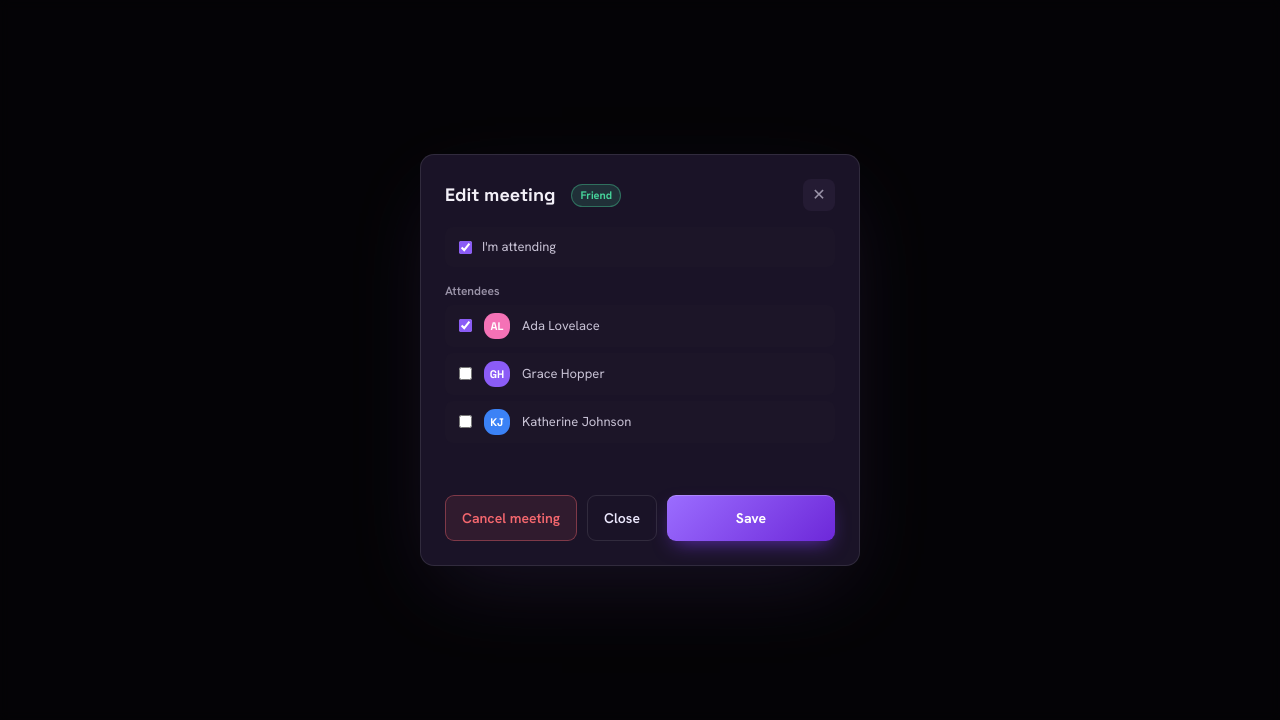
Test case: MeetingEditModal › adding a second attendee flips the derived-type badge to Group live, client-side
Expected: the text "Grace Hopper" is shown, [522,365,605,382]
Expected: the text with test id "derived-type-badge" reads "Friend", [580,188,612,202]
Click the checkbox labelled "GH Grace Hopper".
click(466, 374)  # box [459,367,472,380]
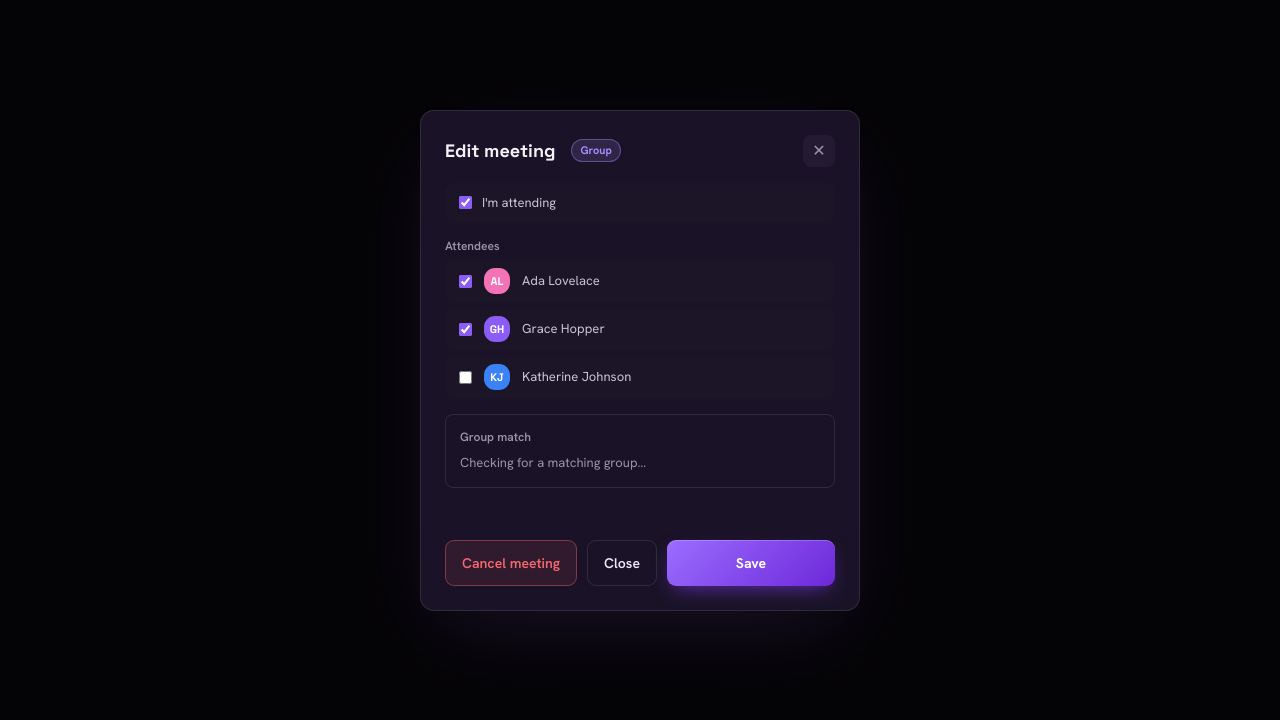
Result: the text with test id "derived-type-badge" reads "Group" at [580,143,612,157]
